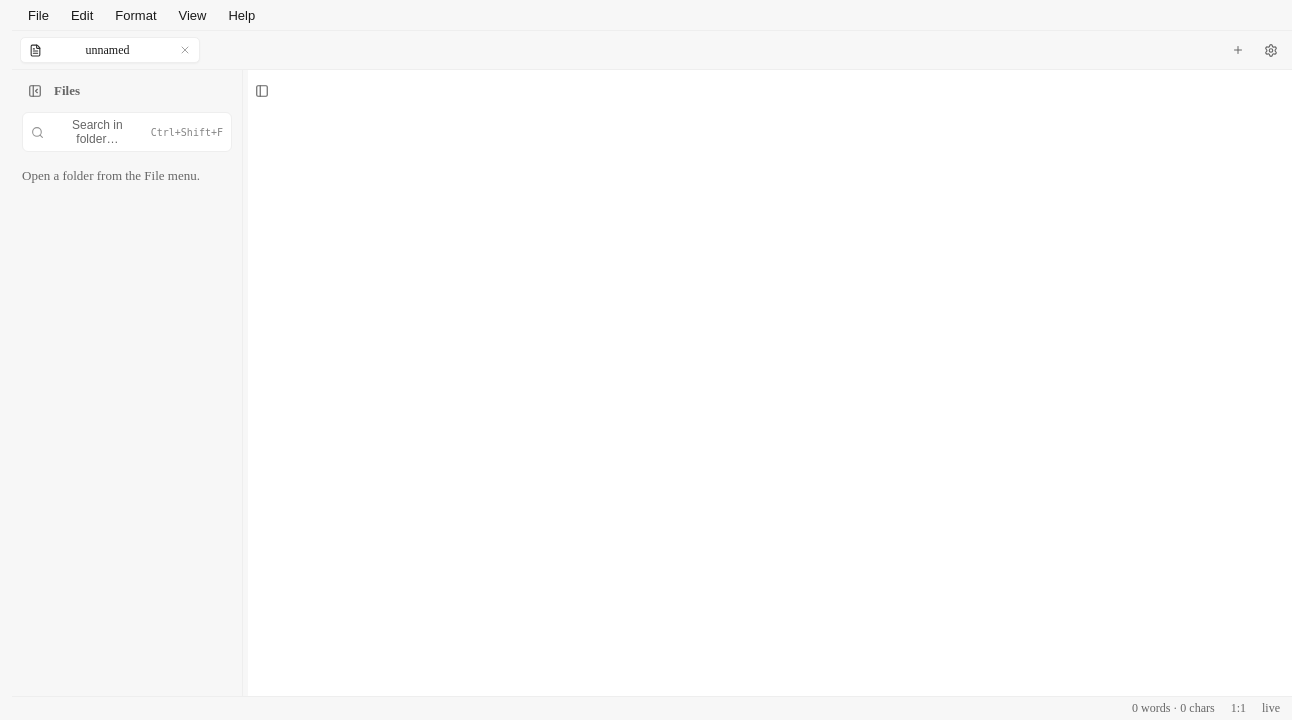
Test: FileTree sidebar menu › 提交中切换其他文件，原生失败仍通过 toast 报告
Press o
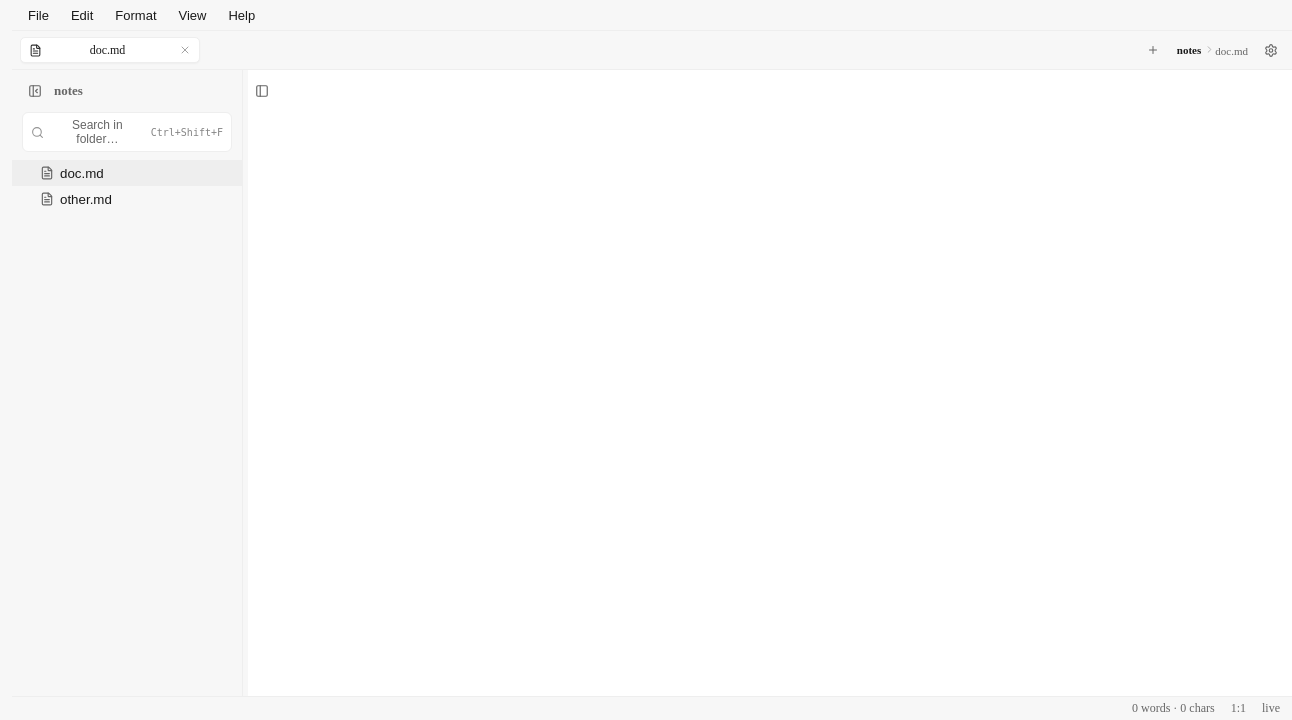
Result: the 1st text "doc.md" is shown at left=90, top=42, right=125, bottom=56
Right-click the button "doc.md" at (127, 173), box left=12, top=160, right=242, bottom=186
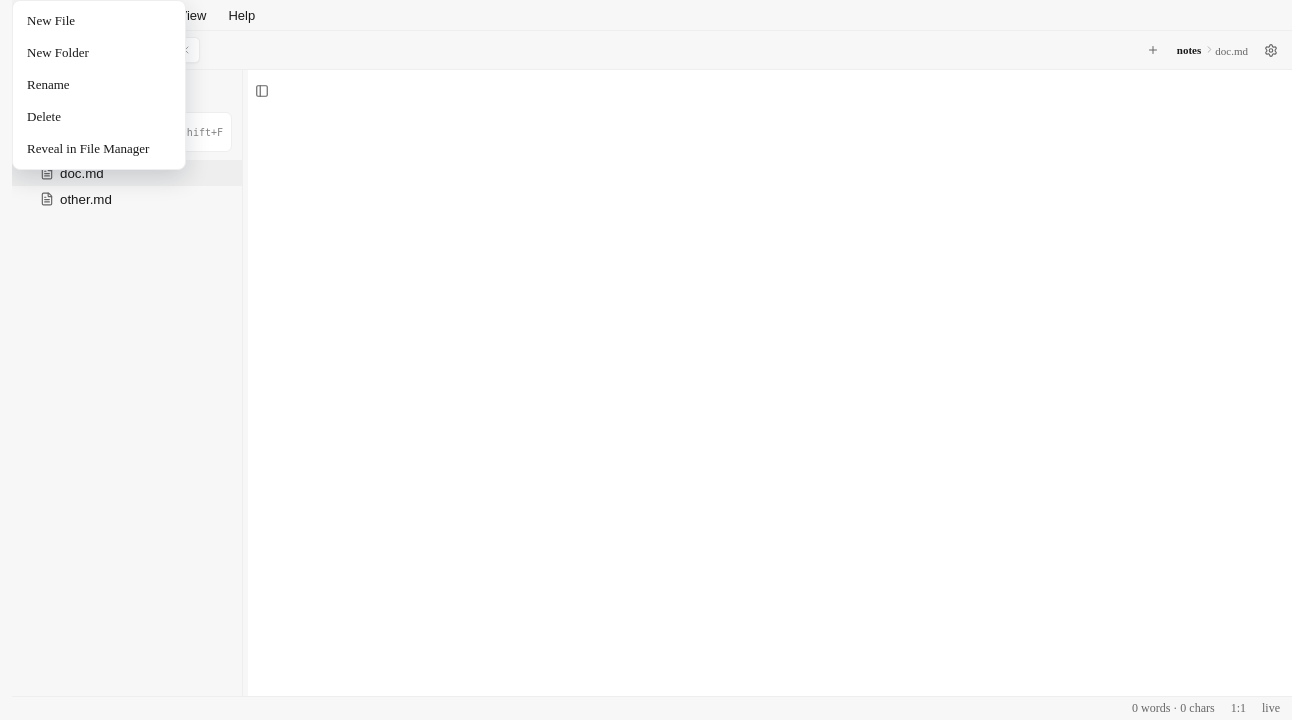
Result: the menu is shown at left=12, top=0, right=186, bottom=170
Click the menu item "Rename" at (99, 85), box left=19, top=71, right=179, bottom=99
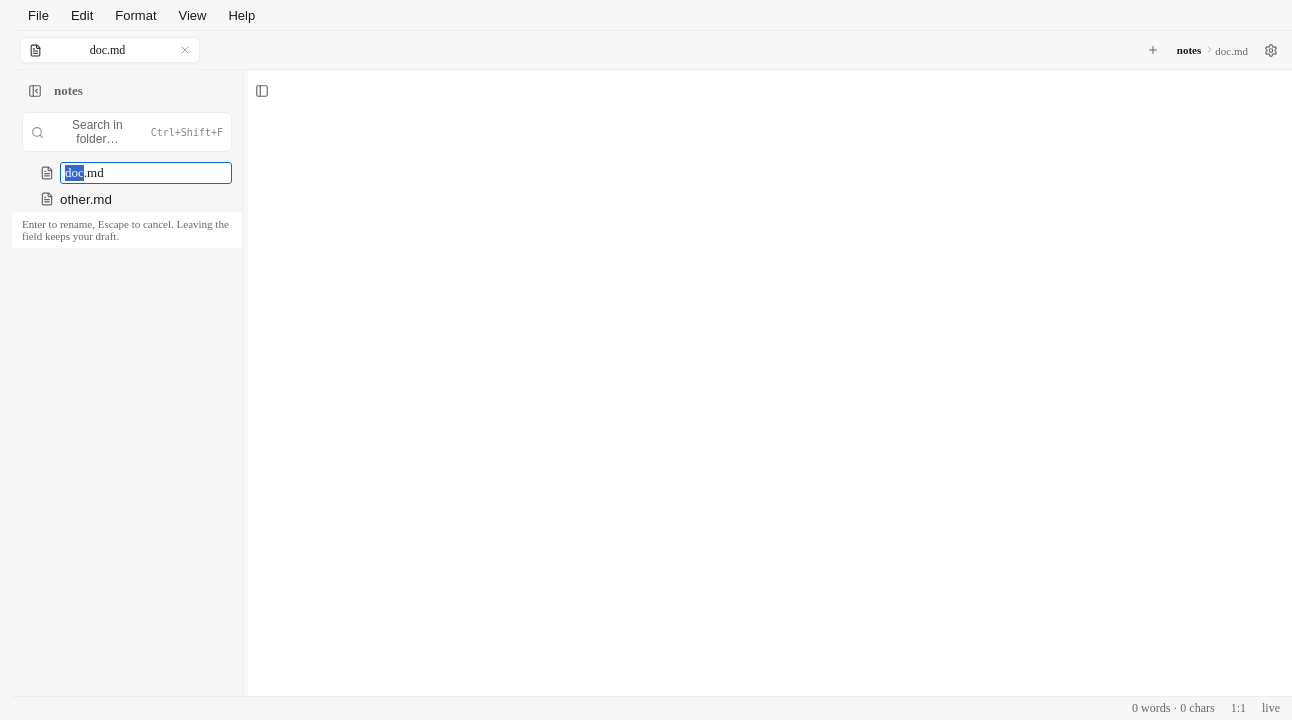
Replace the text in the field named "Rename" with "taken.md" at (146, 173), box left=60, top=162, right=232, bottom=184
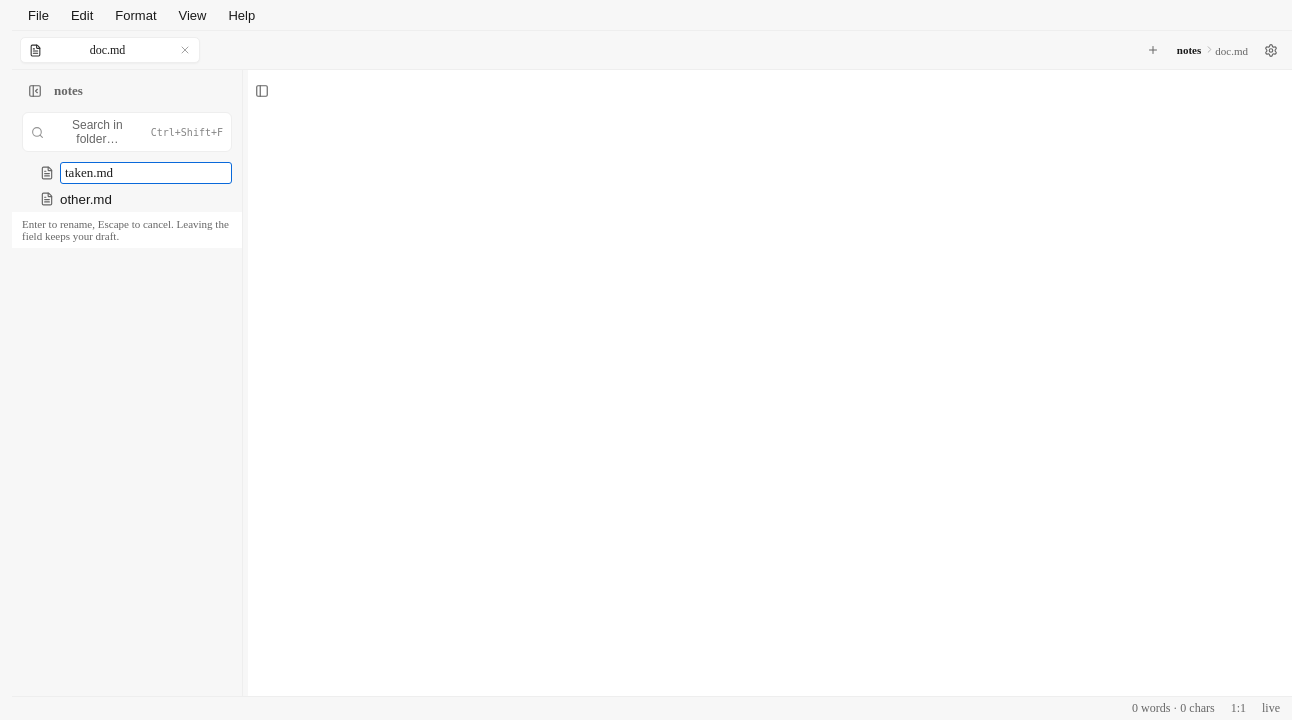
Press Enter in the field named "Rename", box left=60, top=162, right=232, bottom=184
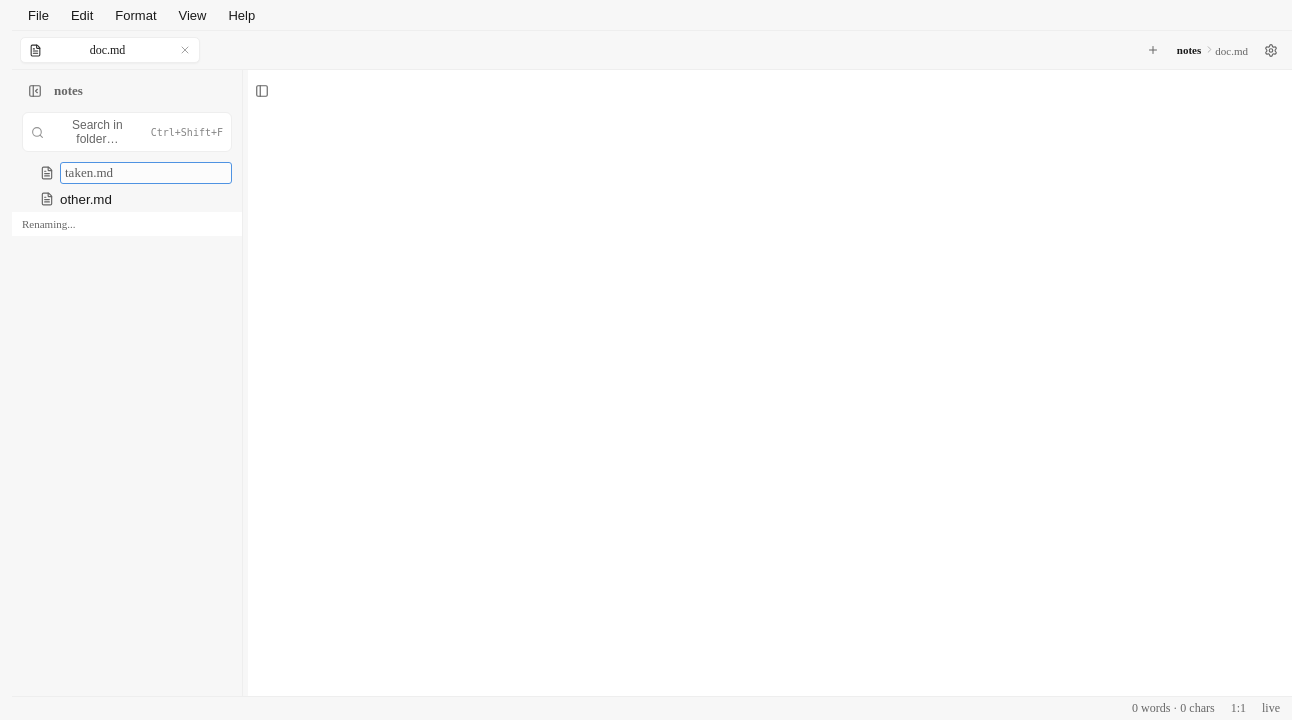
Click the button "other.md" at (127, 199), box left=12, top=186, right=242, bottom=212
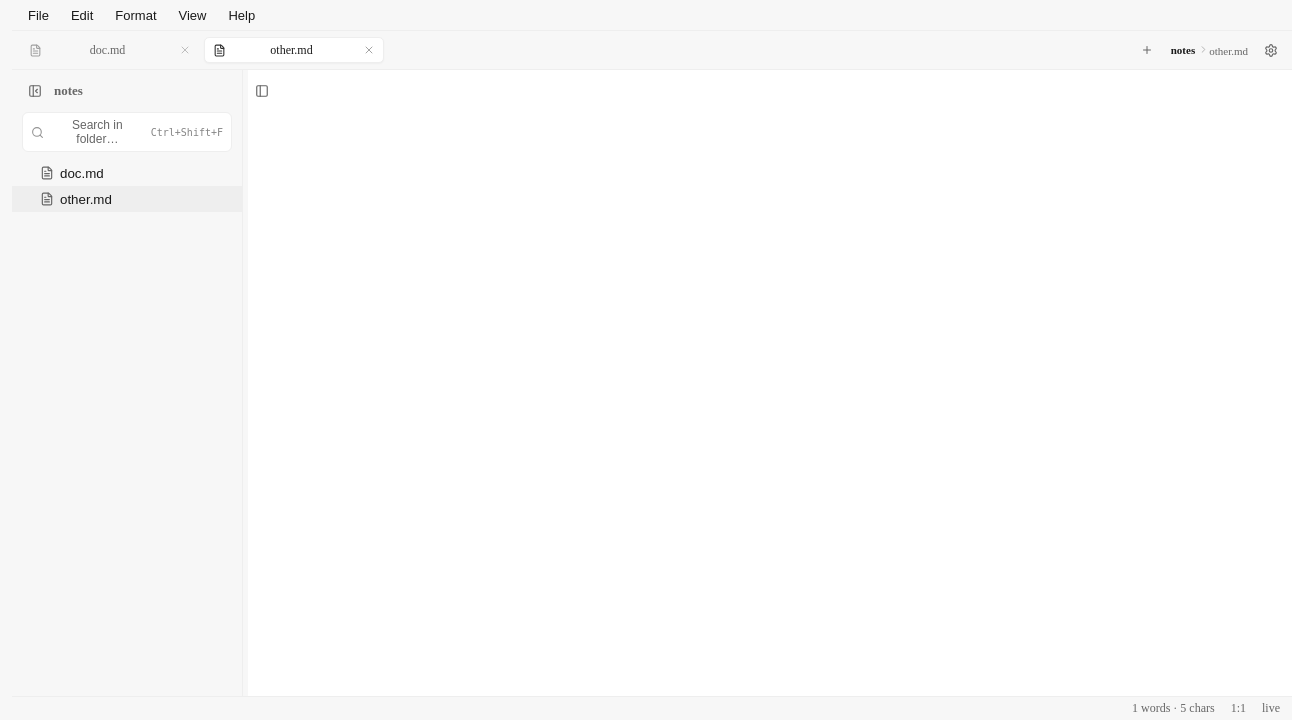
Result: the field labelled "Rename" is gone
